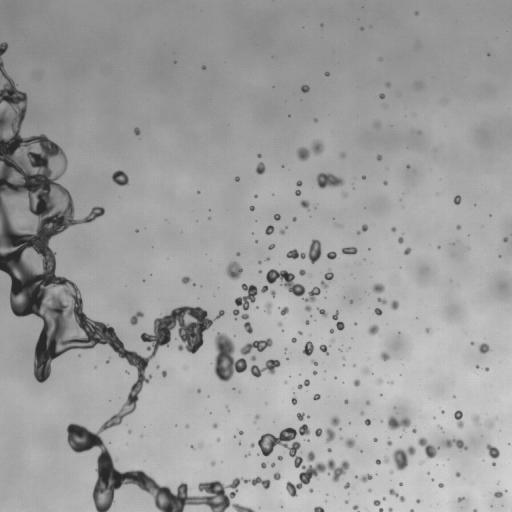droplet: (210, 332, 248, 381), (383, 445, 415, 471), (234, 283, 257, 310), (316, 172, 345, 188), (387, 415, 411, 431), (225, 261, 243, 280), (111, 170, 128, 186), (486, 443, 500, 459), (302, 340, 314, 356), (325, 427, 335, 443), (340, 246, 357, 255), (370, 283, 385, 293), (478, 342, 491, 353), (296, 412, 310, 421), (368, 324, 379, 335), (24, 98, 35, 109), (72, 208, 83, 219), (46, 237, 57, 248), (298, 242, 309, 253), (293, 257, 304, 268), (284, 261, 295, 272), (255, 275, 266, 286), (254, 291, 265, 302), (313, 295, 324, 306), (273, 296, 284, 307), (32, 318, 43, 329), (168, 326, 179, 337), (114, 327, 125, 338), (201, 329, 212, 340), (100, 342, 111, 353), (137, 346, 148, 357), (207, 346, 218, 357), (262, 348, 273, 359), (230, 349, 241, 360), (25, 352, 36, 363), (477, 353, 488, 364), (48, 357, 59, 368), (305, 384, 316, 395), (295, 388, 306, 399), (352, 398, 363, 409), (349, 399, 360, 410), (319, 419, 330, 430), (87, 422, 98, 433), (341, 427, 352, 438), (330, 437, 341, 448), (273, 443, 284, 454), (89, 445, 100, 456), (342, 449, 353, 460), (316, 452, 327, 463), (113, 461, 124, 472), (365, 462, 376, 473), (260, 468, 271, 479), (316, 470, 327, 481), (220, 475, 231, 486), (274, 479, 285, 490), (120, 480, 131, 491), (187, 485, 198, 496), (143, 491, 154, 502), (386, 495, 397, 506), (255, 162, 265, 174), (300, 199, 310, 211), (379, 351, 390, 361), (471, 414, 481, 425), (330, 416, 340, 427), (277, 306, 289, 315), (243, 321, 252, 333), (362, 366, 373, 375), (232, 308, 240, 320), (265, 225, 274, 235), (390, 300, 399, 310), (273, 471, 283, 480), (326, 251, 337, 259), (300, 84, 309, 93), (372, 120, 381, 129), (484, 419, 493, 428), (18, 129, 27, 138), (47, 132, 56, 141), (303, 140, 312, 149), (321, 141, 330, 150), (307, 152, 316, 161), (267, 233, 276, 242), (236, 257, 245, 266), (218, 265, 227, 274), (173, 299, 182, 308), (381, 303, 390, 312), (81, 305, 90, 314), (223, 310, 232, 319), (371, 314, 380, 323), (103, 317, 112, 326), (145, 326, 154, 335), (246, 333, 255, 342), (311, 347, 320, 356), (256, 359, 265, 368), (129, 365, 138, 374), (379, 383, 388, 392), (122, 385, 131, 394), (293, 403, 302, 412), (75, 417, 84, 426), (291, 420, 300, 429), (477, 424, 486, 433), (98, 431, 107, 440), (377, 437, 386, 446), (240, 443, 249, 452), (415, 445, 424, 454), (108, 449, 117, 458), (434, 449, 443, 458), (267, 452, 276, 461), (301, 458, 310, 467), (387, 459, 396, 468), (89, 460, 98, 469), (89, 471, 98, 480), (338, 474, 347, 483), (290, 475, 299, 484), (405, 498, 414, 507), (453, 195, 461, 205), (181, 276, 191, 284), (377, 297, 387, 305), (252, 414, 260, 424), (414, 81, 423, 89), (182, 505, 193, 511), (200, 505, 211, 511), (279, 226, 287, 234), (403, 247, 411, 255), (313, 392, 321, 400), (424, 327, 433, 334), (273, 213, 281, 220), (304, 305, 312, 312), (374, 308, 382, 315), (241, 312, 249, 319), (375, 378, 383, 385), (315, 428, 322, 436), (0, 99, 5, 110), (0, 269, 5, 280), (386, 437, 392, 446), (494, 491, 503, 497), (457, 496, 466, 502), (314, 506, 324, 511), (294, 189, 301, 196), (268, 243, 275, 250), (353, 379, 360, 386), (236, 428, 243, 435), (373, 499, 380, 506), (352, 504, 359, 511), (0, 52, 7, 59), (2, 64, 9, 71), (6, 70, 13, 77), (15, 84, 22, 91), (380, 86, 387, 93), (319, 150, 326, 157), (291, 152, 298, 159), (333, 170, 340, 177), (311, 180, 318, 187), (324, 184, 331, 191), (298, 193, 305, 200), (295, 195, 302, 202), (71, 200, 78, 207), (270, 219, 277, 226), (67, 224, 74, 231), (393, 230, 400, 237), (399, 242, 406, 249), (335, 249, 342, 256), (319, 251, 326, 258), (53, 254, 60, 261), (275, 265, 282, 272), (53, 269, 60, 276), (224, 275, 231, 282), (291, 277, 298, 284), (374, 277, 381, 284), (267, 282, 274, 289), (255, 283, 262, 290), (304, 285, 311, 292), (302, 291, 309, 298), (372, 291, 379, 298), (378, 291, 385, 298), (177, 300, 184, 307), (189, 301, 196, 308), (311, 308, 318, 315), (302, 311, 309, 318), (28, 312, 35, 319), (205, 312, 212, 319), (365, 320, 372, 327), (300, 324, 307, 331), (239, 326, 246, 333), (226, 332, 233, 339), (32, 333, 39, 340), (476, 337, 483, 344), (146, 340, 153, 347), (123, 343, 130, 350), (472, 343, 479, 350), (157, 344, 164, 351), (250, 347, 257, 354), (181, 348, 188, 355), (243, 353, 250, 360), (375, 356, 382, 363), (120, 357, 127, 364), (278, 357, 285, 364), (345, 359, 352, 366), (245, 360, 252, 367), (208, 363, 215, 370), (355, 364, 362, 371), (243, 367, 250, 374), (142, 369, 149, 376), (261, 369, 268, 376), (231, 370, 238, 377), (307, 373, 314, 380), (212, 374, 219, 381), (121, 394, 128, 401), (111, 407, 118, 414), (329, 410, 336, 417), (395, 414, 402, 421), (301, 417, 308, 424), (493, 420, 500, 427), (308, 425, 315, 432), (331, 425, 338, 432), (106, 426, 113, 433), (395, 426, 402, 433), (212, 428, 219, 435), (61, 430, 68, 437), (320, 431, 327, 438), (413, 432, 420, 439), (294, 433, 301, 440), (353, 438, 360, 445), (426, 438, 433, 445), (286, 439, 293, 446), (327, 440, 334, 447), (389, 444, 396, 451), (401, 444, 408, 451), (349, 446, 356, 453), (81, 449, 88, 456), (259, 454, 266, 461), (405, 454, 412, 461), (346, 456, 353, 463), (429, 456, 436, 463), (321, 458, 328, 465), (309, 460, 316, 467), (334, 460, 341, 467), (403, 465, 410, 472), (270, 466, 277, 473), (296, 466, 303, 473), (144, 469, 151, 476), (359, 469, 366, 476), (207, 475, 214, 482), (309, 475, 316, 482), (269, 478, 276, 485), (349, 478, 356, 485), (157, 480, 164, 487), (255, 482, 262, 489), (301, 483, 308, 490), (393, 485, 400, 492), (170, 487, 177, 494), (113, 488, 120, 495), (200, 489, 207, 496), (282, 489, 289, 496), (228, 497, 235, 504), (241, 500, 248, 507), (379, 501, 386, 508), (411, 502, 418, 509), (134, 127, 140, 135), (225, 506, 234, 511), (339, 152, 346, 158), (376, 154, 382, 161), (299, 269, 305, 276), (310, 359, 317, 365), (161, 370, 167, 377), (379, 93, 385, 99), (296, 180, 302, 186), (341, 191, 347, 197), (249, 205, 255, 211), (291, 337, 297, 343), (250, 355, 256, 361), (375, 459, 381, 465), (359, 409, 364, 416), (212, 422, 217, 429), (412, 426, 417, 433), (234, 176, 240, 181), (391, 226, 396, 232), (502, 237, 508, 242), (264, 256, 270, 261), (277, 321, 282, 327), (304, 320, 310, 325), (249, 442, 254, 448), (277, 455, 283, 460), (210, 460, 215, 466), (261, 462, 266, 468), (455, 471, 460, 477), (438, 482, 444, 487), (308, 487, 313, 493), (507, 235, 511, 242), (90, 507, 97, 511), (106, 507, 113, 511), (153, 507, 160, 511), (488, 507, 495, 511), (385, 82, 390, 87), (383, 180, 388, 185), (456, 224, 461, 229), (329, 328, 334, 333), (297, 330, 302, 335), (312, 370, 317, 375), (344, 399, 349, 404), (365, 400, 370, 405), (215, 437, 220, 442), (270, 462, 275, 467), (363, 24, 368, 29), (196, 64, 201, 69), (300, 80, 305, 85), (25, 93, 30, 98), (25, 107, 30, 112), (23, 113, 28, 118), (21, 119, 26, 124), (138, 127, 143, 132), (129, 130, 134, 135), (34, 131, 39, 136), (371, 155, 376, 160), (381, 155, 386, 160), (256, 157, 261, 162), (251, 165, 256, 170), (114, 166, 119, 171), (122, 168, 127, 173), (263, 168, 268, 173), (64, 169, 69, 174), (323, 169, 328, 174), (252, 170, 257, 175), (257, 173, 262, 178), (107, 176, 112, 181), (127, 177, 132, 182), (55, 178, 60, 183), (113, 182, 118, 187), (120, 184, 125, 189), (297, 185, 302, 190), (70, 194, 75, 199), (449, 194, 454, 199), (98, 202, 103, 207), (308, 203, 313, 208), (452, 203, 457, 208), (301, 206, 306, 211), (103, 210, 108, 215), (205, 211, 210, 216), (94, 216, 99, 221), (89, 220, 94, 225), (86, 221, 91, 226), (460, 224, 465, 229), (356, 225, 361, 230), (273, 227, 278, 232), (366, 227, 371, 232), (387, 229, 392, 234), (360, 230, 365, 235), (501, 232, 506, 237), (312, 234, 317, 239), (393, 236, 398, 241), (402, 236, 407, 241), (306, 240, 311, 245), (344, 242, 349, 247), (288, 245, 293, 250), (296, 248, 301, 253), (408, 250, 413, 255), (348, 253, 353, 258), (259, 255, 264, 260), (304, 255, 309, 260), (288, 257, 293, 262), (54, 258, 59, 263), (328, 258, 333, 263), (239, 263, 244, 268), (256, 264, 261, 269), (286, 268, 291, 273), (322, 268, 327, 273), (182, 271, 187, 276), (261, 271, 266, 276), (64, 274, 69, 279), (275, 277, 280, 282), (323, 278, 328, 283), (187, 280, 192, 285), (263, 280, 268, 285), (74, 281, 79, 286), (245, 281, 250, 286), (317, 283, 322, 288), (319, 287, 324, 292), (265, 289, 270, 294), (243, 290, 248, 295), (288, 291, 293, 296), (314, 294, 319, 299), (296, 295, 301, 300), (394, 296, 399, 301), (344, 297, 349, 302), (306, 300, 311, 305), (248, 301, 253, 306), (279, 303, 284, 308), (397, 303, 402, 308), (237, 304, 242, 309), (378, 304, 383, 309), (201, 305, 206, 310), (258, 305, 263, 310), (287, 306, 292, 311), (139, 307, 144, 312), (369, 307, 374, 312), (131, 310, 136, 315), (9, 311, 14, 316), (284, 312, 289, 317), (236, 313, 241, 318), (136, 316, 141, 321), (336, 316, 341, 321), (308, 317, 313, 322), (241, 318, 246, 323), (249, 322, 254, 327), (343, 322, 348, 327), (332, 325, 337, 330), (377, 328, 382, 333), (136, 331, 141, 336), (373, 332, 378, 337), (294, 333, 299, 338), (261, 335, 266, 340), (118, 336, 123, 341), (270, 336, 275, 341), (137, 337, 142, 342), (484, 339, 489, 344), (95, 342, 100, 347), (488, 344, 493, 349), (198, 345, 203, 350), (264, 346, 269, 351), (326, 346, 331, 351), (76, 347, 81, 352), (85, 347, 90, 352), (68, 348, 73, 353), (65, 349, 70, 354), (147, 349, 152, 354), (386, 350, 391, 355), (187, 351, 192, 356), (484, 351, 489, 356), (480, 352, 485, 357), (239, 353, 244, 358), (271, 355, 276, 360), (384, 359, 389, 364), (480, 363, 485, 368), (245, 365, 250, 370), (312, 365, 317, 370), (158, 366, 163, 371), (273, 366, 278, 371), (165, 372, 170, 377), (251, 375, 256, 380), (31, 376, 36, 381), (382, 376, 387, 381), (45, 377, 50, 382), (286, 377, 291, 382), (349, 378, 354, 383), (299, 379, 304, 384), (359, 379, 364, 384), (349, 382, 354, 387), (292, 383, 297, 388), (301, 385, 306, 390), (353, 385, 358, 390), (136, 392, 141, 397), (288, 393, 293, 398), (295, 395, 300, 400), (135, 399, 140, 404), (369, 399, 374, 404), (132, 409, 137, 414), (255, 409, 260, 414), (105, 414, 110, 419), (249, 415, 254, 420), (361, 415, 366, 420), (121, 416, 126, 421), (478, 417, 483, 422), (256, 418, 261, 423), (383, 418, 388, 423), (452, 418, 457, 423), (99, 419, 104, 424), (207, 422, 212, 427), (337, 422, 342, 427), (361, 423, 366, 428), (281, 424, 286, 429), (110, 425, 115, 430), (407, 425, 412, 430), (415, 426, 420, 431), (261, 429, 266, 434), (274, 432, 279, 437), (235, 433, 240, 438), (447, 434, 452, 439), (454, 434, 459, 439), (233, 438, 238, 443), (340, 439, 345, 444), (462, 440, 467, 445), (451, 442, 456, 447), (490, 442, 495, 447), (496, 445, 501, 450), (256, 447, 261, 452), (484, 448, 489, 453), (461, 449, 466, 454), (295, 450, 300, 455), (206, 457, 211, 462), (492, 457, 497, 462), (214, 459, 219, 464), (274, 459, 279, 464), (265, 462, 270, 467), (329, 470, 334, 475), (369, 470, 374, 475), (450, 471, 455, 476), (429, 472, 434, 477), (235, 473, 240, 478), (243, 474, 248, 479), (250, 474, 255, 479), (426, 474, 431, 479), (260, 475, 265, 480), (455, 476, 460, 481), (181, 478, 186, 483), (366, 479, 371, 484), (433, 480, 438, 485), (246, 481, 251, 486), (236, 484, 241, 489), (492, 487, 497, 492), (295, 488, 300, 493), (234, 491, 239, 496), (384, 491, 389, 496), (489, 493, 494, 498), (390, 494, 395, 499), (403, 494, 408, 499), (376, 495, 381, 500), (88, 496, 93, 501), (496, 496, 501, 501), (89, 499, 94, 504), (460, 499, 465, 504), (368, 500, 373, 505), (349, 501, 354, 506), (399, 501, 404, 506), (321, 504, 326, 509), (374, 505, 379, 510), (470, 341, 476, 345), (182, 366, 188, 370), (387, 380, 393, 384), (0, 37, 3, 44), (414, 11, 419, 15), (378, 57, 383, 61), (201, 65, 206, 69), (324, 72, 329, 76), (313, 118, 318, 122), (406, 164, 410, 169), (292, 217, 297, 221), (235, 252, 240, 256), (257, 260, 262, 264), (484, 367, 489, 371), (197, 388, 201, 393), (373, 437, 377, 442), (327, 448, 332, 452), (491, 462, 495, 467), (389, 469, 393, 474), (398, 482, 403, 486), (378, 507, 383, 511), (388, 507, 393, 511), (284, 347, 287, 353), (360, 26, 364, 30), (417, 130, 421, 134), (257, 153, 261, 157), (196, 190, 200, 194), (254, 239, 258, 243), (437, 245, 441, 249), (258, 270, 262, 274), (349, 299, 353, 303), (125, 370, 129, 374), (185, 424, 189, 428), (382, 496, 386, 500), (416, 499, 420, 503), (134, 229, 139, 232), (450, 242, 455, 245), (156, 364, 159, 369), (475, 365, 480, 368), (128, 429, 131, 434), (472, 508, 477, 511), (278, 508, 283, 511), (382, 508, 387, 511), (320, 23, 323, 27), (486, 53, 490, 56), (173, 60, 177, 63), (362, 175, 365, 179), (254, 194, 257, 198), (208, 216, 211, 220), (498, 254, 501, 258), (192, 283, 196, 286), (255, 306, 259, 309), (353, 322, 357, 325), (338, 348, 342, 351), (286, 357, 289, 361), (342, 356, 345, 360), (352, 364, 356, 367), (284, 380, 287, 384), (238, 389, 241, 393), (452, 394, 455, 398), (441, 410, 444, 414), (432, 416, 436, 419), (494, 417, 497, 421), (380, 419, 383, 423), (348, 421, 351, 425), (338, 427, 342, 430), (427, 471, 430, 475), (368, 488, 371, 492), (324, 499, 327, 503), (344, 500, 348, 503), (409, 509, 414, 511), (281, 164, 284, 167), (142, 279, 145, 282), (309, 314, 312, 317), (281, 329, 284, 332), (233, 334, 236, 337), (308, 334, 311, 337), (174, 337, 177, 340), (78, 354, 81, 357), (342, 363, 345, 366), (94, 365, 97, 368), (334, 376, 337, 379), (232, 387, 235, 390), (379, 393, 382, 396), (264, 401, 267, 404), (393, 406, 396, 409), (174, 424, 177, 427), (140, 434, 143, 437), (233, 435, 236, 438), (399, 435, 402, 438), (507, 442, 510, 445), (431, 478, 434, 481), (504, 489, 507, 492), (347, 492, 350, 495), (280, 505, 283, 508), (490, 504, 493, 507), (414, 7, 417, 10), (411, 12, 414, 15), (316, 23, 319, 26), (322, 23, 325, 26), (318, 26, 321, 29), (357, 28, 360, 31), (489, 51, 492, 54), (487, 55, 490, 58), (173, 63, 176, 66), (325, 68, 328, 71), (202, 69, 205, 72), (324, 75, 327, 78), (308, 88, 311, 91), (299, 90, 302, 93), (304, 91, 307, 94), (377, 97, 380, 100), (381, 98, 384, 101), (287, 111, 290, 114), (290, 113, 293, 116), (284, 114, 287, 117), (316, 116, 319, 119), (310, 119, 313, 122), (133, 124, 136, 127), (136, 134, 139, 137), (256, 150, 259, 153), (378, 151, 381, 154), (260, 153, 263, 156), (254, 154, 257, 157), (279, 162, 282, 165), (283, 163, 286, 166), (403, 163, 406, 166), (409, 164, 412, 167), (403, 166, 406, 169), (281, 167, 284, 170), (408, 167, 411, 170), (362, 172, 365, 175), (234, 173, 237, 176), (358, 175, 361, 178), (365, 175, 368, 178), (239, 176, 242, 179), (362, 178, 365, 181), (238, 179, 241, 182), (386, 179, 389, 182), (233, 180, 236, 183), (301, 182, 304, 185), (380, 182, 383, 185), (352, 183, 355, 186), (349, 184, 352, 187), (197, 187, 200, 190), (193, 190, 196, 193), (253, 191, 256, 194), (268, 192, 271, 195), (292, 192, 295, 195), (197, 193, 200, 196), (453, 193, 456, 196), (459, 193, 462, 196), (271, 195, 274, 198), (459, 200, 462, 203), (451, 201, 454, 204), (475, 201, 478, 204), (251, 202, 254, 205), (470, 203, 473, 206), (475, 204, 478, 207), (207, 205, 210, 208), (316, 205, 319, 208), (246, 207, 249, 210), (210, 208, 213, 211), (253, 208, 256, 211), (249, 210, 252, 213), (272, 211, 275, 214), (307, 211, 310, 214), (490, 211, 493, 214), (279, 213, 282, 216), (292, 213, 295, 216), (485, 213, 488, 216), (332, 214, 335, 217), (204, 216, 207, 219), (289, 217, 292, 220), (295, 218, 298, 221), (207, 219, 210, 222), (332, 219, 335, 222), (458, 222, 461, 225), (389, 224, 392, 227), (287, 225, 290, 228), (453, 225, 456, 228), (263, 226, 266, 229), (281, 226, 284, 229), (138, 228, 141, 231), (284, 228, 287, 231), (458, 228, 461, 231), (249, 229, 252, 232), (353, 230, 356, 233), (136, 231, 139, 234), (248, 233, 251, 236), (264, 233, 267, 236), (269, 233, 272, 236), (254, 236, 257, 239), (251, 239, 254, 242), (257, 240, 260, 243), (449, 240, 452, 243), (454, 241, 457, 244), (503, 241, 506, 244), (253, 242, 256, 245), (436, 242, 439, 245), (439, 243, 442, 246), (367, 244, 370, 247), (265, 247, 268, 250), (272, 247, 275, 250), (364, 247, 367, 250), (370, 247, 373, 250), (436, 248, 439, 251), (238, 249, 241, 252), (233, 251, 236, 254), (498, 251, 501, 254), (283, 253, 286, 256), (345, 253, 348, 256), (495, 255, 498, 258), (500, 255, 503, 258), (326, 257, 329, 260), (254, 260, 257, 263), (330, 269, 333, 272), (147, 271, 150, 274), (151, 272, 154, 275), (148, 275, 151, 278), (143, 276, 146, 279), (144, 280, 147, 283), (140, 281, 143, 284), (195, 283, 198, 286), (364, 292, 367, 295), (269, 294, 272, 297), (352, 300, 355, 303), (318, 306, 321, 309), (263, 311, 266, 314), (381, 311, 384, 314), (318, 313, 321, 316), (415, 313, 418, 316), (377, 314, 380, 317), (412, 315, 415, 318), (302, 318, 305, 321), (355, 319, 358, 322), (302, 322, 305, 325), (352, 324, 355, 327), (425, 324, 428, 327), (280, 325, 283, 328), (342, 327, 345, 330), (422, 327, 425, 330), (299, 328, 302, 331), (326, 328, 329, 331), (396, 328, 399, 331), (339, 329, 342, 332), (219, 330, 222, 333), (245, 331, 248, 334), (280, 331, 283, 334), (394, 331, 397, 334), (423, 331, 426, 334), (329, 333, 332, 336), (399, 333, 402, 336), (288, 338, 291, 341), (305, 338, 308, 341), (471, 338, 474, 341), (467, 339, 470, 342), (282, 344, 285, 347), (301, 346, 304, 349), (339, 346, 342, 349), (348, 348, 351, 351), (281, 349, 284, 352), (339, 351, 342, 354), (303, 353, 306, 356), (284, 354, 287, 357), (344, 356, 347, 359), (104, 357, 107, 360), (341, 359, 344, 362), (317, 361, 320, 364), (350, 361, 353, 364), (106, 362, 109, 365), (310, 362, 313, 365), (355, 363, 358, 366), (339, 364, 342, 367), (484, 364, 487, 367), (353, 366, 356, 369), (474, 367, 477, 370), (477, 367, 480, 370), (488, 367, 491, 370), (298, 369, 301, 372), (371, 369, 374, 372), (484, 370, 487, 373), (295, 371, 298, 374), (287, 372, 290, 375), (159, 373, 162, 376), (315, 373, 318, 376), (335, 373, 338, 376), (331, 374, 334, 377), (371, 374, 374, 377), (258, 375, 261, 378), (398, 375, 401, 378), (305, 376, 308, 379), (148, 378, 151, 381), (335, 378, 338, 381), (388, 378, 391, 381), (283, 383, 286, 386), (341, 383, 344, 386), (386, 383, 389, 386), (196, 385, 199, 388), (235, 387, 238, 390), (200, 388, 203, 391), (193, 389, 196, 392), (231, 389, 234, 392), (379, 390, 382, 393), (196, 392, 199, 395), (208, 392, 211, 395), (382, 392, 385, 395), (310, 394, 313, 397), (449, 394, 452, 397), (319, 395, 322, 398), (379, 395, 382, 398), (455, 395, 458, 398), (107, 396, 110, 399), (343, 396, 346, 399), (364, 397, 367, 400), (451, 397, 454, 400), (288, 398, 291, 401), (313, 399, 316, 402), (347, 399, 350, 402), (341, 400, 344, 403), (362, 401, 365, 404), (289, 402, 292, 405), (344, 403, 347, 406), (227, 406, 230, 409), (223, 407, 226, 410), (439, 407, 442, 410), (456, 407, 459, 410), (208, 408, 211, 411), (443, 408, 446, 411), (452, 409, 455, 412), (211, 411, 214, 414), (438, 411, 441, 414), (206, 412, 209, 415), (429, 414, 432, 417), (302, 415, 305, 418), (368, 417, 371, 420), (431, 418, 434, 421), (174, 420, 177, 423), (345, 420, 348, 423), (370, 420, 373, 423), (350, 421, 353, 424), (439, 423, 442, 426), (176, 424, 179, 427), (216, 425, 219, 428), (436, 426, 439, 429), (238, 427, 241, 430), (441, 427, 444, 430), (130, 431, 133, 434), (410, 431, 413, 434), (230, 435, 233, 438), (375, 435, 378, 438), (257, 436, 260, 439), (213, 437, 216, 440), (219, 438, 222, 441), (370, 438, 373, 441), (385, 438, 388, 441), (376, 439, 379, 442), (240, 440, 243, 443), (373, 441, 376, 444), (247, 442, 250, 445), (187, 443, 190, 446), (192, 444, 195, 447), (385, 444, 388, 447), (189, 447, 192, 450), (330, 447, 333, 450), (361, 447, 364, 450), (362, 450, 365, 453), (244, 451, 247, 454), (357, 451, 360, 454), (246, 455, 249, 458), (379, 458, 382, 461), (372, 460, 375, 463), (374, 463, 377, 466), (258, 464, 261, 467), (491, 465, 494, 468), (423, 470, 426, 473), (279, 472, 282, 475), (357, 474, 360, 477), (459, 474, 462, 477), (399, 479, 402, 482), (428, 479, 431, 482), (494, 479, 497, 482), (396, 480, 399, 483), (440, 480, 443, 483), (402, 481, 405, 484), (349, 483, 352, 486), (440, 486, 443, 489), (503, 486, 506, 489), (346, 487, 349, 490), (312, 489, 315, 492), (507, 489, 510, 492), (501, 490, 504, 493), (327, 491, 330, 494), (366, 491, 369, 494), (491, 491, 494, 494), (459, 494, 462, 497), (325, 495, 328, 498), (464, 495, 467, 498), (345, 496, 348, 499), (418, 496, 421, 499), (413, 497, 416, 500), (454, 497, 457, 500), (341, 500, 344, 503), (418, 501, 421, 504), (282, 504, 285, 507), (486, 504, 489, 507), (408, 506, 411, 509), (471, 506, 474, 509), (288, 114, 290, 117), (352, 187, 355, 189), (399, 198, 401, 201), (474, 203, 476, 206), (332, 217, 335, 219), (251, 232, 253, 235), (298, 373, 301, 375), (207, 395, 209, 398), (299, 451, 302, 453), (446, 458, 449, 460), (258, 506, 260, 509), (509, 440, 511, 443), (311, 509, 314, 511), (391, 509, 394, 511), (406, 509, 409, 511), (413, 509, 416, 511), (469, 509, 472, 511), (476, 509, 479, 511), (272, 193, 274, 195), (314, 207, 316, 209), (208, 209, 210, 211), (489, 214, 491, 216), (255, 220, 257, 222), (467, 234, 469, 236), (368, 248, 370, 250), (363, 258, 365, 260), (200, 285, 202, 287), (197, 297, 199, 299), (416, 317, 418, 319), (351, 337, 353, 339), (324, 370, 326, 372), (289, 375, 291, 377), (342, 381, 344, 383), (209, 412, 211, 414), (482, 459, 484, 461), (326, 493, 328, 495), (324, 297, 326, 298), (314, 320, 316, 321), (355, 435, 357, 436), (436, 464, 438, 465), (501, 505, 503, 506), (272, 86, 273, 87), (150, 274, 151, 275), (342, 344, 343, 345), (109, 400, 110, 401)
ligament: (265, 269, 321, 302), (239, 337, 273, 356), (250, 358, 281, 378), (296, 139, 324, 161), (339, 436, 362, 453), (444, 437, 468, 452), (320, 268, 333, 291), (332, 309, 344, 331), (389, 488, 405, 502), (130, 310, 144, 325), (261, 285, 276, 298), (453, 410, 463, 428), (354, 473, 372, 482), (297, 379, 310, 389), (356, 224, 368, 234), (316, 307, 328, 317), (190, 441, 203, 450), (264, 301, 272, 315), (290, 391, 298, 405), (364, 418, 374, 426), (397, 232, 404, 243), (436, 424, 444, 433), (333, 222, 344, 227), (105, 356, 111, 363), (244, 451, 251, 457), (225, 404, 230, 412), (303, 438, 310, 442), (346, 346, 351, 351), (365, 507, 370, 511), (238, 439, 241, 445), (496, 480, 499, 485), (398, 331, 400, 336), (375, 472, 377, 475)
